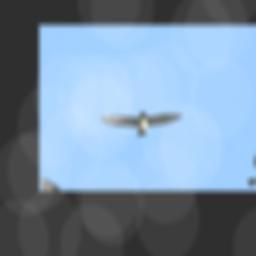Swallow: (96, 91, 183, 146)
